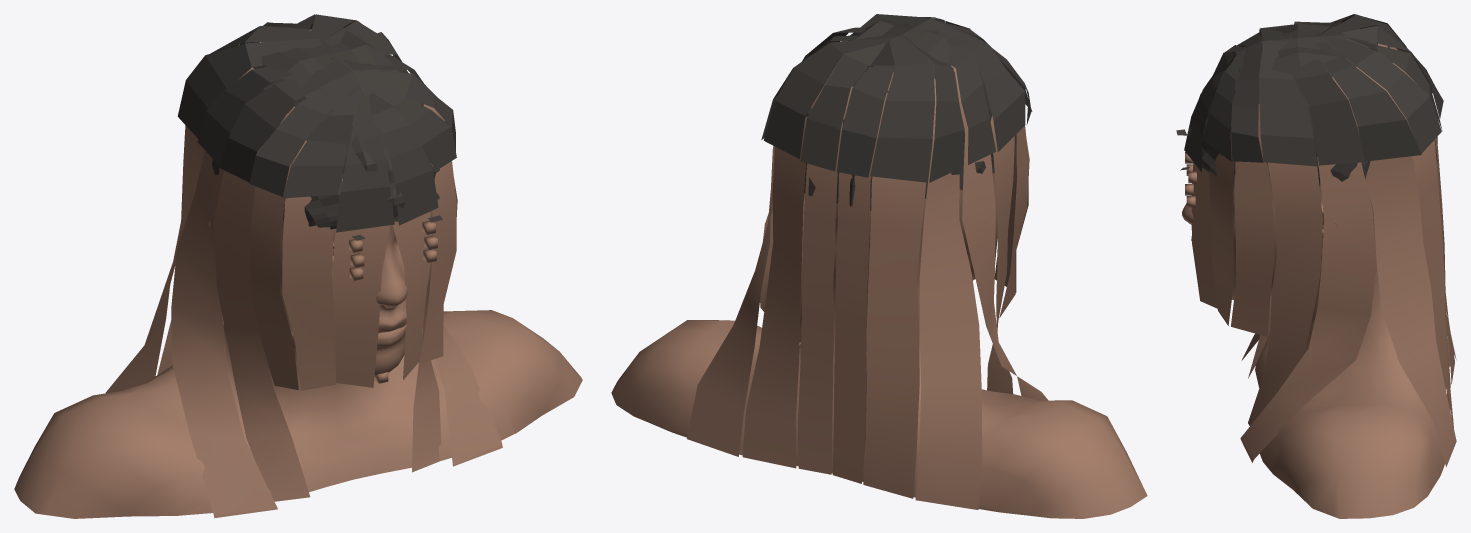
The model's file is orin_authored_head.glb.
3 views of the same model, side by side, from view 1: azimuth 30°, elevation 25°; view 2: azimuth 150°, elevation 25°; view 3: azimuth 270°, elevation 25° (orthographic). The views are drawn at different scales.
Visible parts, largest first — view 1: Orin_AnatomicalHead, Orin_SculptedCurlyCrop; view 2: Orin_AnatomicalHead, Orin_SculptedCurlyCrop; view 3: Orin_AnatomicalHead, Orin_SculptedCurlyCrop.
Boxes of the visible parts, x1,y1,x2,y2 form: Orin_AnatomicalHead: (14,29,582,518); Orin_SculptedCurlyCrop: (177,14,456,240); Orin_AnatomicalHead: (611,40,1147,518); Orin_SculptedCurlyCrop: (761,14,1032,210); Orin_AnatomicalHead: (1182,43,1456,518); Orin_SculptedCurlyCrop: (1176,14,1443,186).
Bounding box in the file's own units: 0.7381 × 0.5388 × 0.3709.
